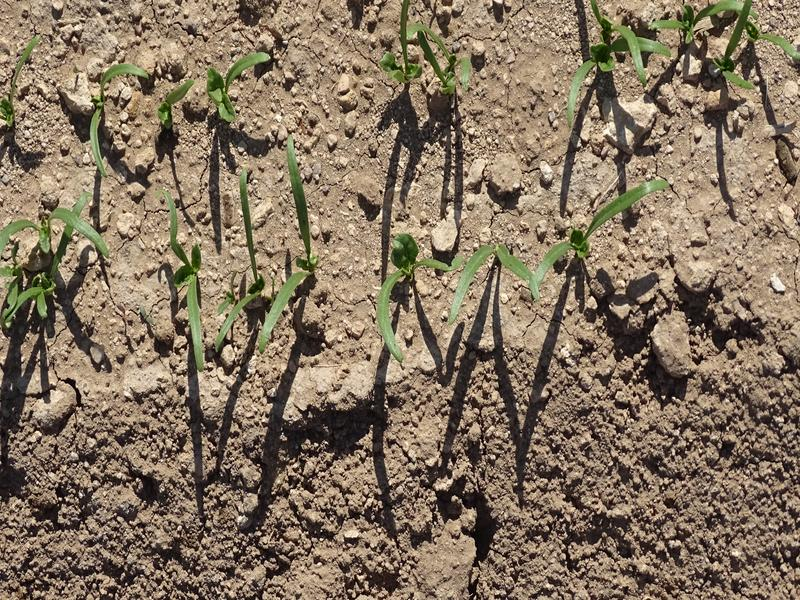Espinaca: (373, 180, 673, 362), (152, 132, 311, 360), (571, 1, 796, 118), (1, 191, 108, 319), (155, 53, 271, 124), (379, 23, 478, 96), (88, 61, 128, 178)
